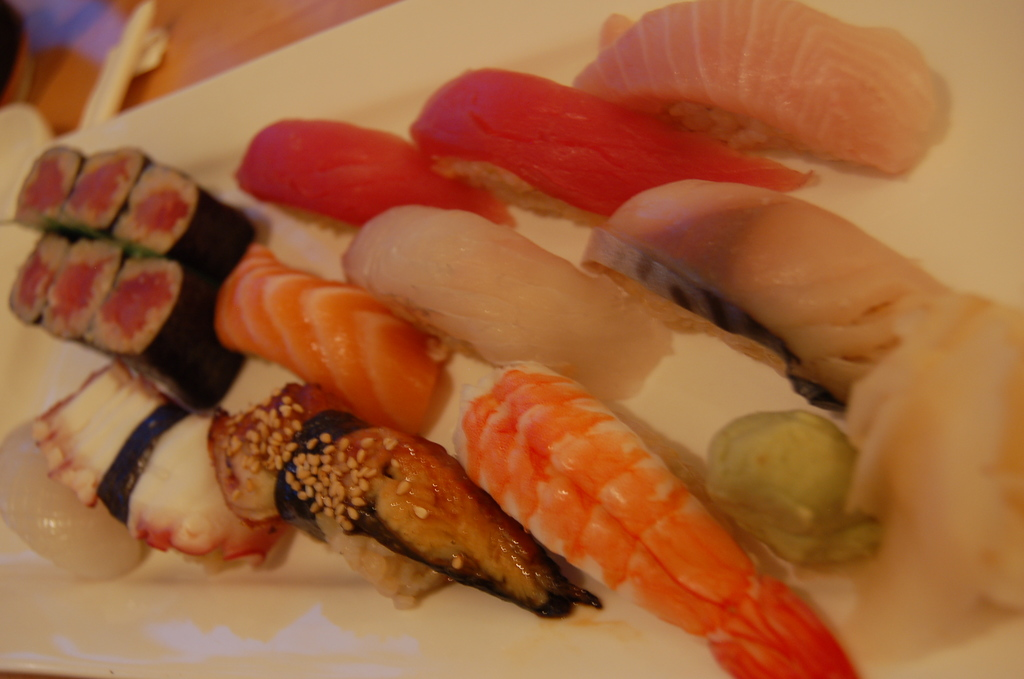sushi: (0, 0, 1023, 678), (419, 377, 818, 678)
